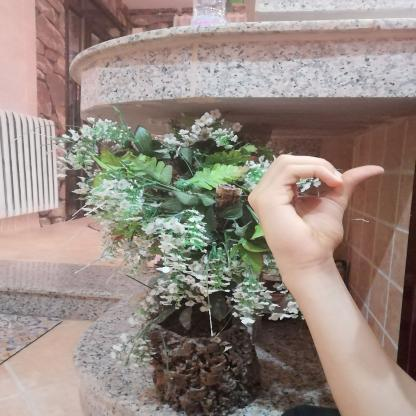WAW: (235, 144, 397, 273)
